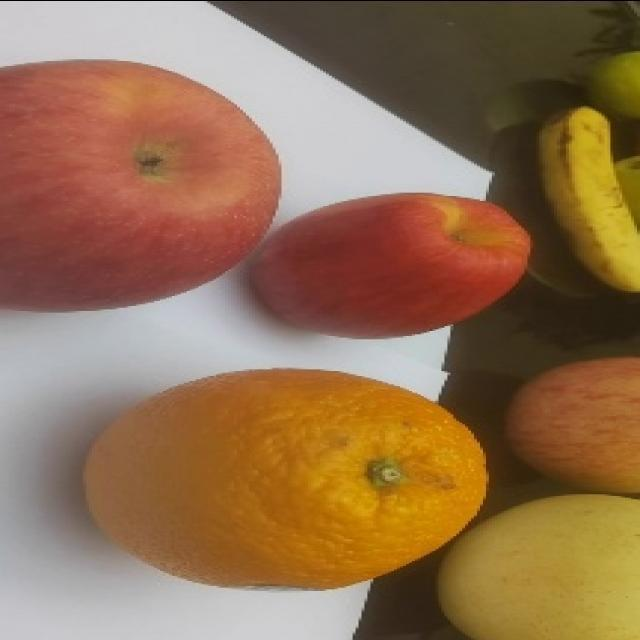Apple: (0, 57, 282, 312), (247, 191, 532, 339), (503, 355, 639, 496)
Banana: (535, 104, 639, 294)
Orange: (82, 366, 489, 591)
